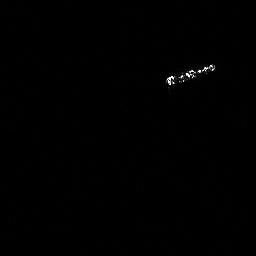ship: (163, 61, 218, 87)
